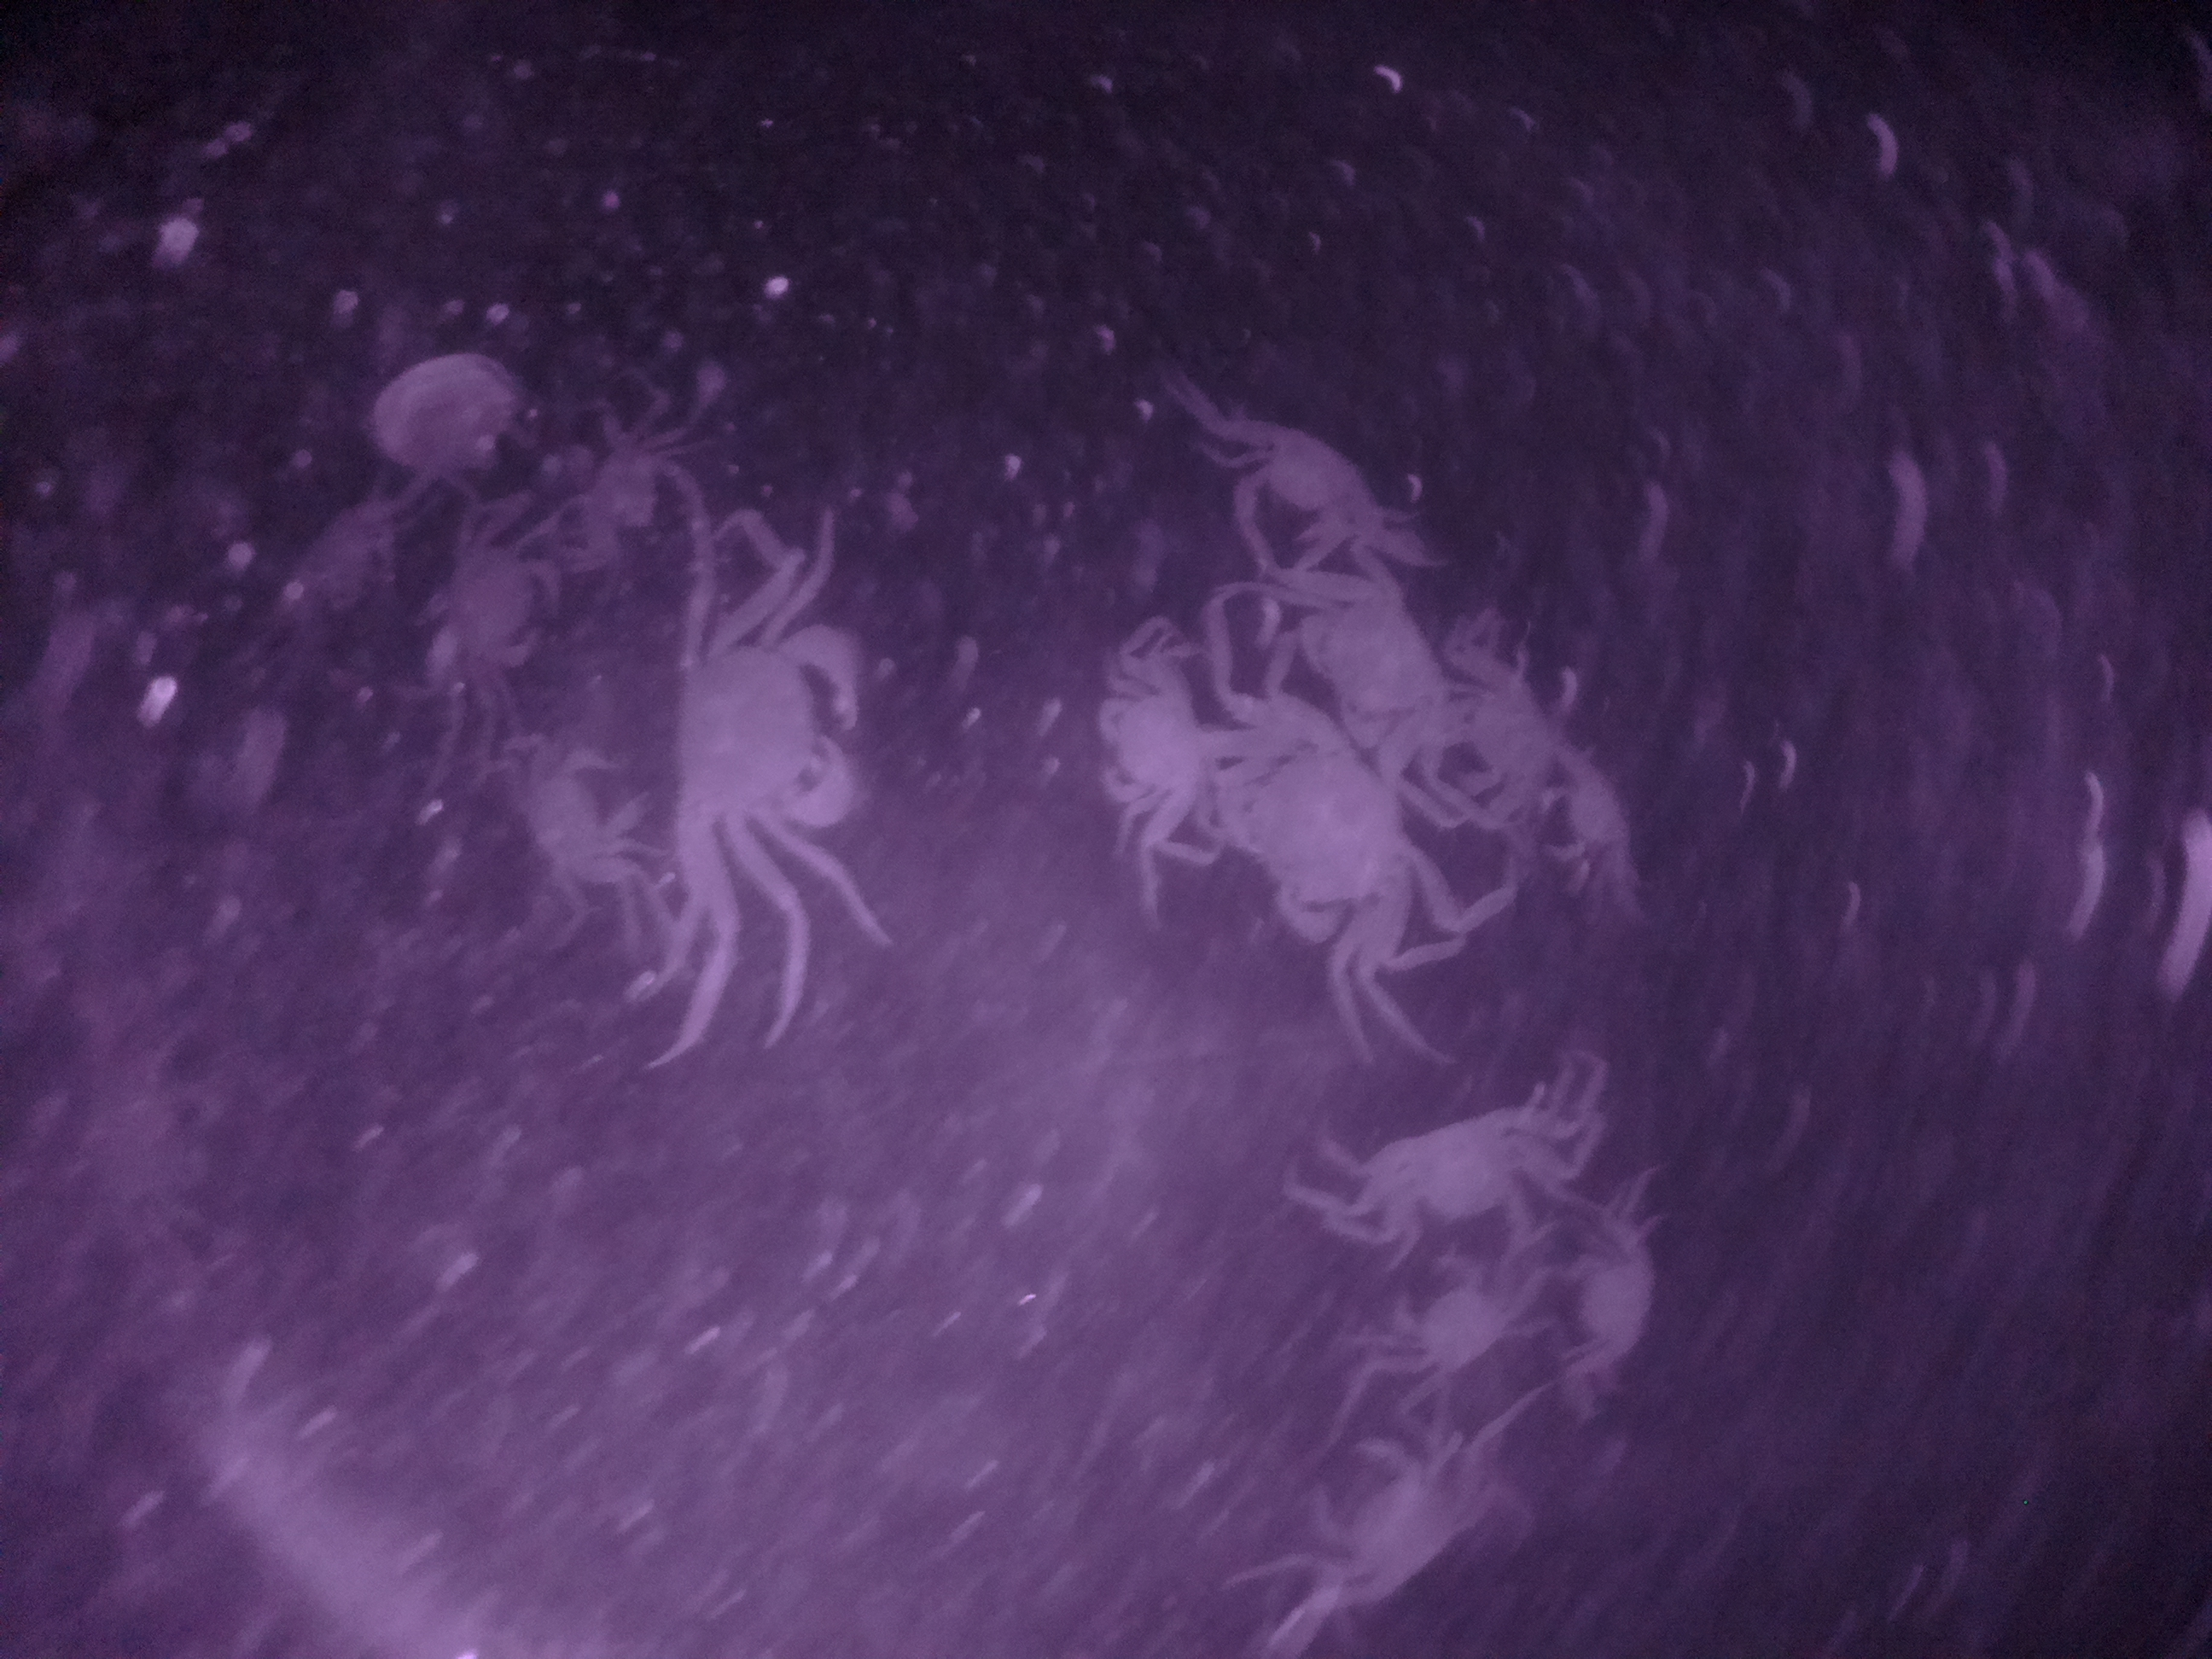Crab: (669, 594, 869, 938), (1205, 699, 1433, 958), (1291, 1420, 1494, 1622), (1336, 1087, 1588, 1249), (514, 713, 664, 924), (1374, 1234, 1550, 1401), (1224, 383, 1383, 558), (1080, 622, 1202, 838), (1526, 748, 1644, 884)
